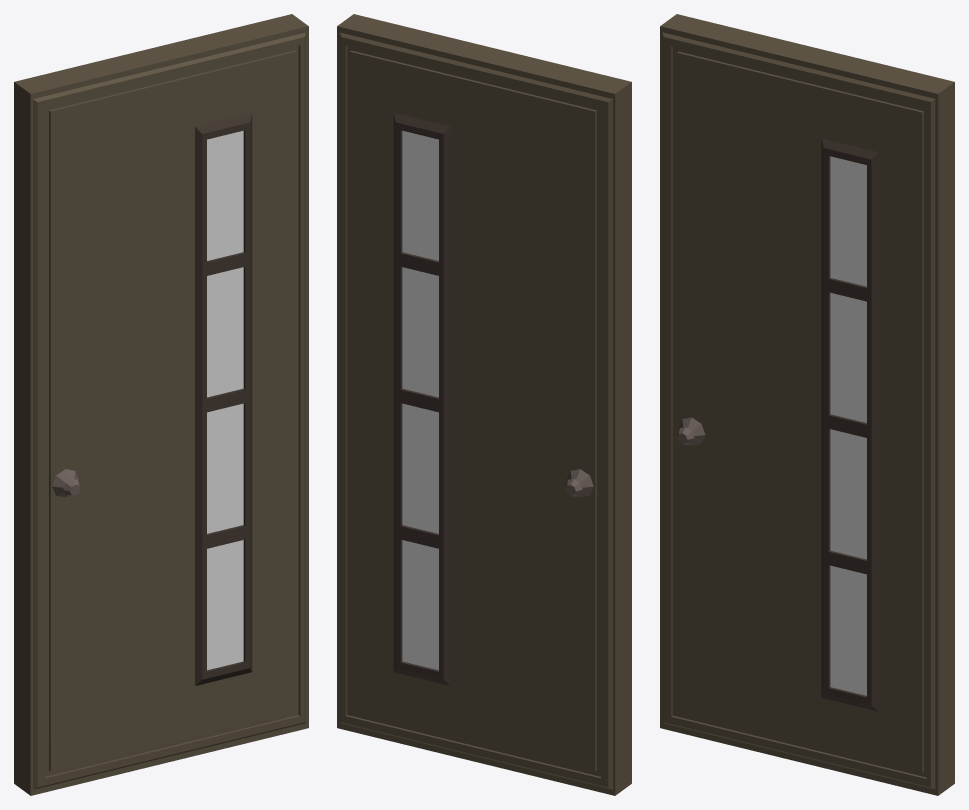
The model's file is Door_6.glb.
3 renders of one model, left to right at view 1: azimuth 30°, elevation 25°; view 2: azimuth 150°, elevation 25°; view 3: azimuth 330°, elevation 25°, orthographic.
Parts seen in each view (by area): view 1: Door_6; view 2: Door_6; view 3: Door_6.
Boxes of the visible parts, left/top/right/bottom form: Door_6: left=14, top=14, right=308, bottom=795; Door_6: left=337, top=14, right=631, bottom=795; Door_6: left=660, top=14, right=954, bottom=795.
Bounding box in the file's own units: 1.74 × 4.2 × 0.4211.
